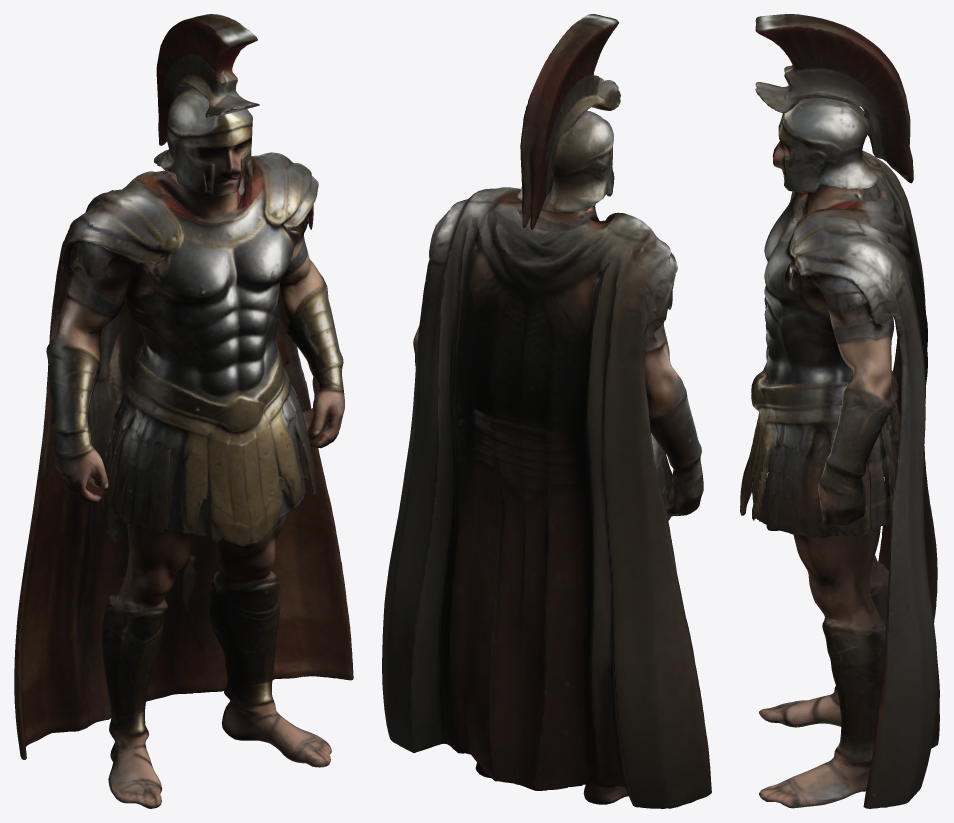
The model's file is myrmidon__spartan-ultrarealistic.glb.
3 renders of one model, left to right at view 1: azimuth 30°, elevation 25°; view 2: azimuth 150°, elevation 25°; view 3: azimuth 270°, elevation 25°, orthographic. The views are drawn at different scales.
Size of the model in its own units: 0.8575 by 1.86 by 0.4539.
Materials: 1 (1 with a texture image).
